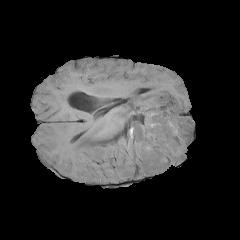glioma: (64, 76, 193, 179)
